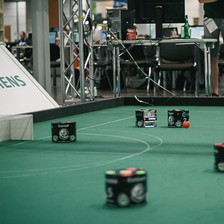ball: (181, 118, 191, 129)
goal: (1, 111, 36, 145)
robot: (99, 164, 147, 209), (49, 117, 78, 144), (133, 105, 160, 129), (165, 105, 191, 129), (211, 138, 224, 173)
